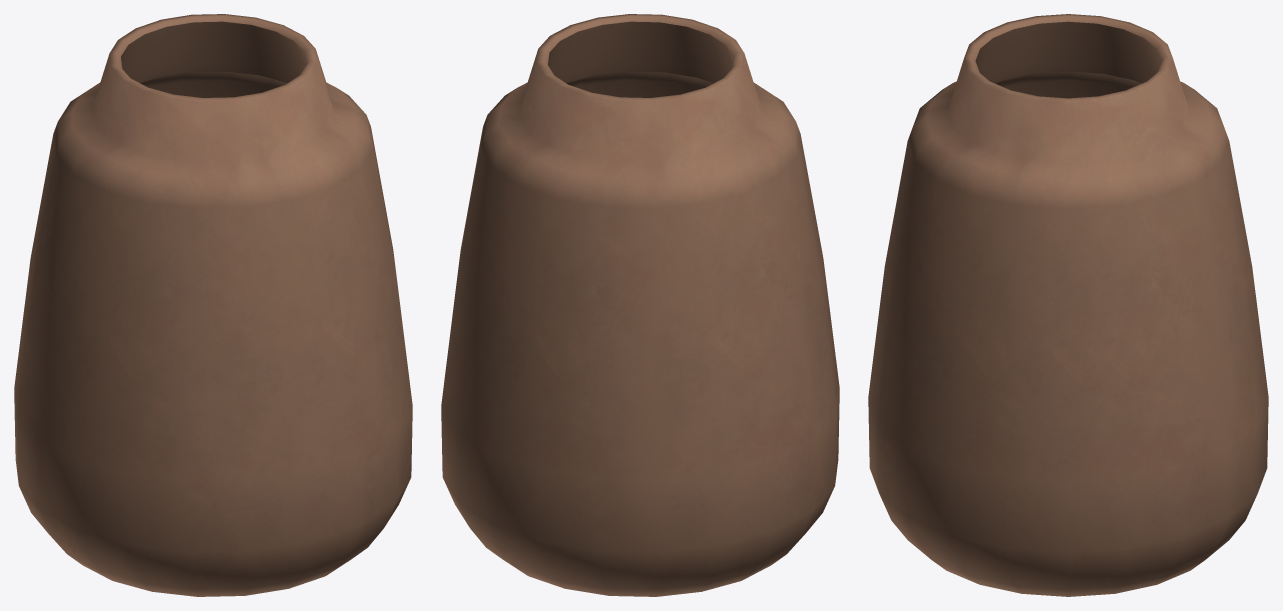
File: vase_03.fbx
The picture shows the model from 3 angles, left to right: view 1: azimuth 30°, elevation 25°; view 2: azimuth 150°, elevation 25°; view 3: azimuth 270°, elevation 25°; orthographic projection.
Parts seen in each view (by area): view 1: vase_03; view 2: vase_03; view 3: vase_03.
Part boxes in pixels (box(x1,y1,x2,y2)): vase_03: box(14, 14, 412, 596); vase_03: box(441, 14, 839, 596); vase_03: box(868, 14, 1268, 596).
Bounding box in the file's own units: 27.84 × 36.5 × 27.84.
